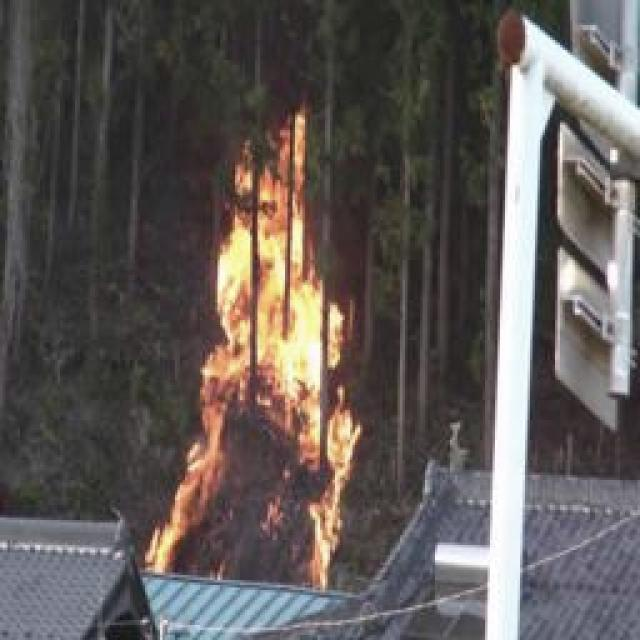fire: (141, 77, 375, 601)
